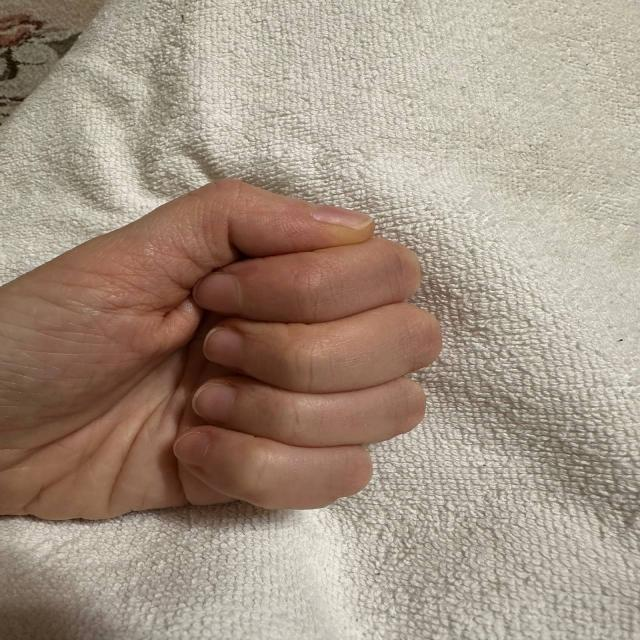a: (49, 160, 447, 542)
